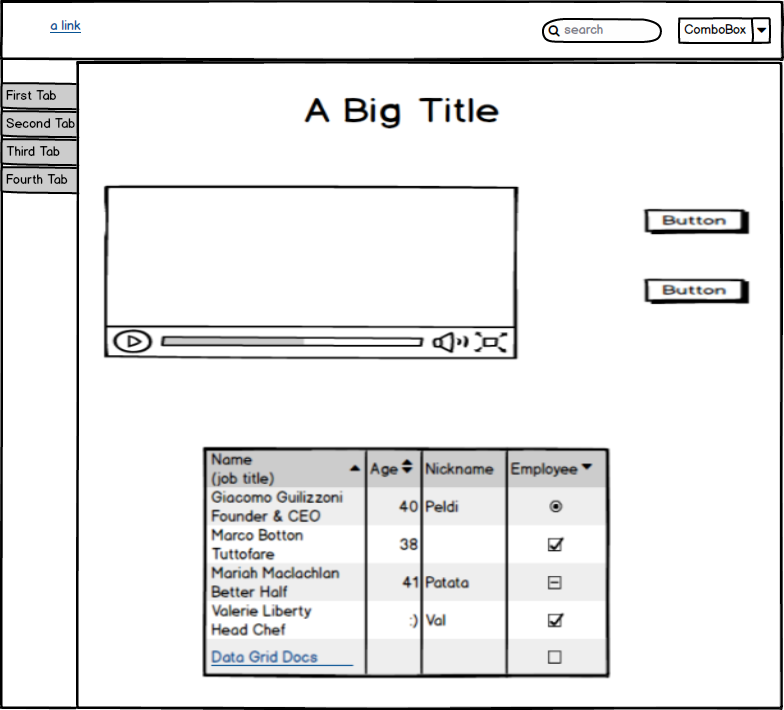button: (634, 201, 754, 240), (636, 273, 753, 310)
h1: (296, 89, 505, 133)
navlink: (41, 10, 90, 39)
search: (535, 12, 667, 46)
select_box: (674, 11, 777, 48)
sidebar: (2, 79, 82, 202)
table: (192, 439, 617, 684)
video: (95, 181, 527, 367)
